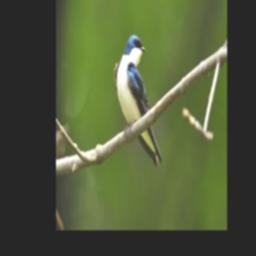Swallow: (114, 32, 164, 168)
